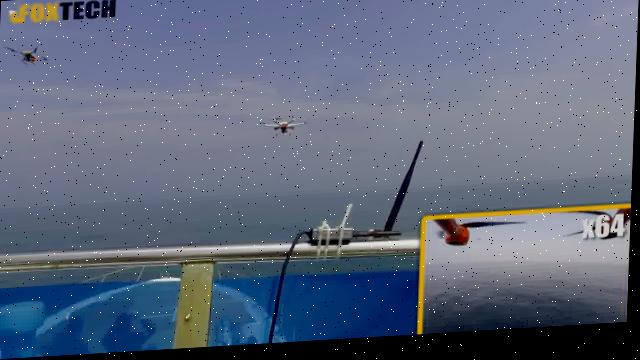drone: (0, 38, 66, 75)
